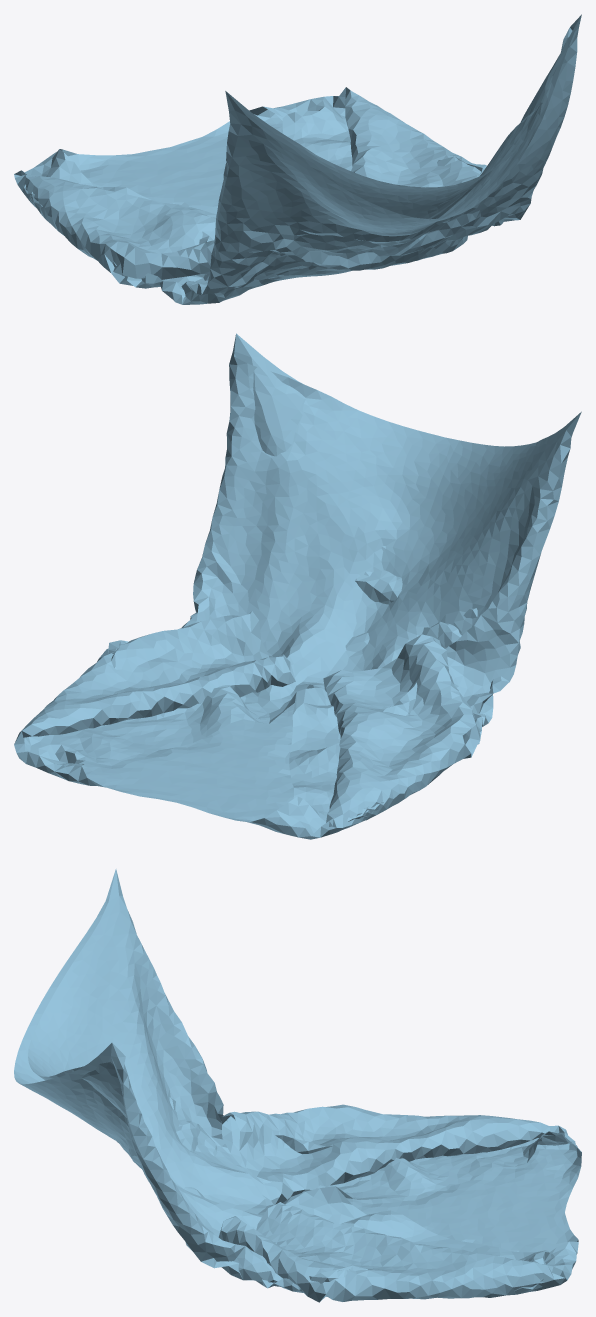
Rendered from frame_06.glb.
The picture shows the model from 3 angles, top to bottom: view 1: azimuth 30°, elevation 25°; view 2: azimuth 150°, elevation 25°; view 3: azimuth 270°, elevation 25°; orthographic projection. The views are drawn at different scales.
Visible parts, largest first — view 1: frame_06.obj; view 2: frame_06.obj; view 3: frame_06.obj.
Part boxes in pixels (<box>): frame_06.obj: <box>14,14,581,304</box>; frame_06.obj: <box>14,333,581,839</box>; frame_06.obj: <box>14,869,581,1302</box>.
Bounding box in the file's own units: 1.19 × 0.8358 × 1.61.
